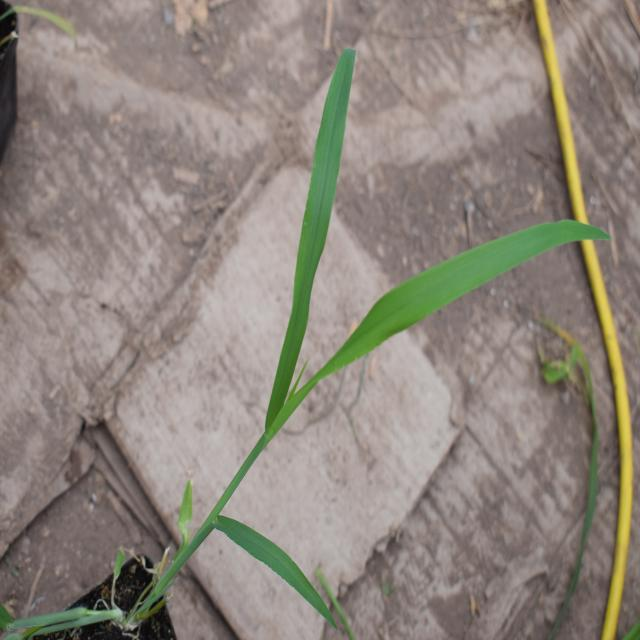crabgrass: (244, 40, 572, 507)
